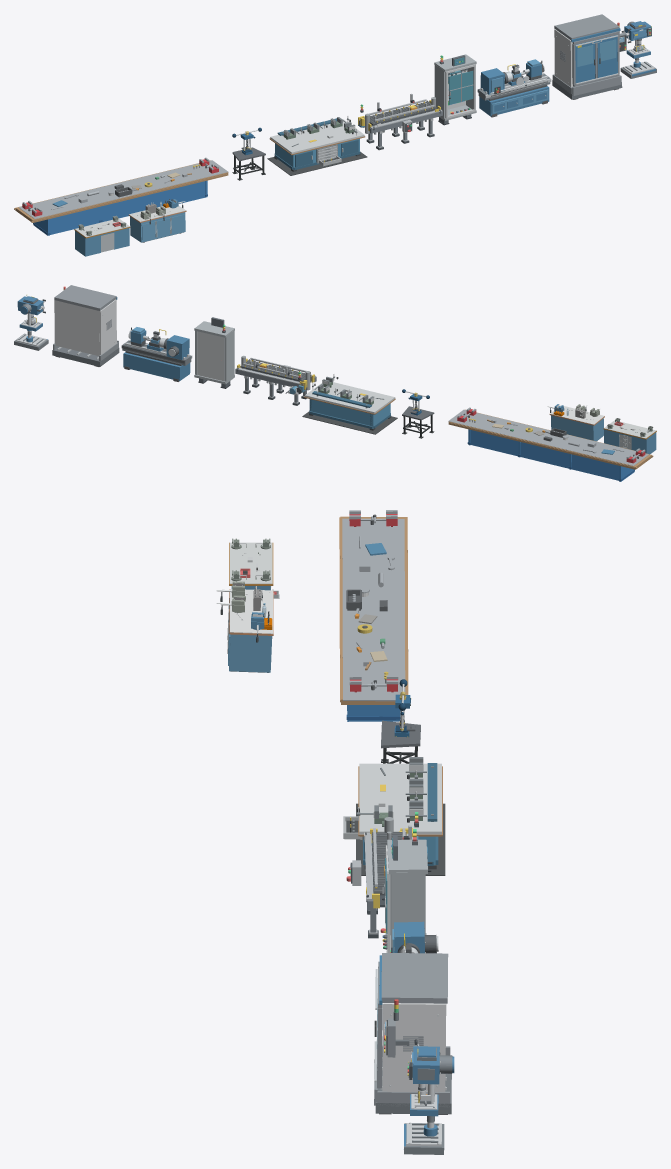
The picture shows the model from 3 angles, top to bottom: view 1: azimuth 30°, elevation 25°; view 2: azimuth 150°, elevation 25°; view 3: azimuth 270°, elevation 25°; orthographic projection. The views are drawn at different scales.
Parts seen in each view (by area): view 1: Chapa_metálica_sobre_tampo, Box, Tampo_aco_macico, TopCover, Tampo_de_madeira_comprido, LeftWall, RightSlidingDoor, LeftSlidingDoor, Panel_Window_Glass, BaseCabinet, Armario_Azul_Corpo, Base_referencia (+9 smaller); view 2: Chapa_metálica_sobre_tampo, Box, BackWall, Panel_Backplate, Tampo_aco_macico, BaseCabinet, Estrutura_azul_principal, TopCover, Armario_Azul_Corpo, LeftWall, Tampo_de_madeira_comprido, BaseFrame (+10 smaller); view 3: Chapa_metálica_sobre_tampo, Tampo_aco_macico, RightWall, TopCover, Panel_LeftSide, Armario_Azul_Corpo, Revestimento_de_formica, Tampo_de_madeira_comprido, Panel_Top, Tampo_Revestimento_Galvanizado.
Part boxes in pixels (<box>): Chapa_metálica_sobre_tampo: <box>19,160,228,219</box>; Box: <box>50,181,205,234</box>; Tampo_aco_macico: <box>270,119,364,153</box>; TopCover: <box>554,14,619,39</box>; Tampo_de_madeira_comprido: <box>15,160,228,222</box>; LeftWall: <box>554,29,572,86</box>; RightSlidingDoor: <box>597,35,617,77</box>; LeftSlidingDoor: <box>575,40,595,83</box>; Panel_Window_Glass: <box>449,71,473,104</box>; BaseCabinet: <box>479,86,549,116</box>; Armario_Azul_Corpo: <box>130,212,185,242</box>; Base_referencia: <box>267,151,367,175</box>; Chapa_metálica_sobre_tampo: <box>448,409,648,465</box>; Box: <box>470,430,618,480</box>; BackWall: <box>55,300,99,355</box>; Panel_Backplate: <box>197,331,224,381</box>; Tampo_aco_macico: <box>305,382,395,413</box>; BaseCabinet: <box>123,352,190,381</box>; Estrutura_azul_principal: <box>310,399,390,428</box>; TopCover: <box>54,285,116,310</box>; Armario_Azul_Corpo: <box>551,415,603,441</box>; LeftWall: <box>99,299,116,354</box>; Tampo_de_madeira_comprido: <box>448,409,652,469</box>; BaseFrame: <box>52,346,119,366</box>; Chapa_metálica_sobre_tampo: <box>342,518,405,701</box>; Tampo_aco_macico: <box>359,763,441,834</box>; RightWall: <box>382,1003,445,1092</box>; TopCover: <box>381,953,448,1003</box>; Panel_LeftSide: <box>391,872,425,950</box>; Armario_Azul_Corpo: <box>229,634,272,672</box>; Revestimento_de_formica: <box>229,542,272,583</box>; Tampo_de_madeira_comprido: <box>340,516,407,704</box>; Panel_Top: <box>387,839,427,874</box>; Tampo_Revestimento_Galvanizado: <box>230,589,273,633</box>.
Size of the model in its own units: 28.88 by 2.94 by 4.85.
